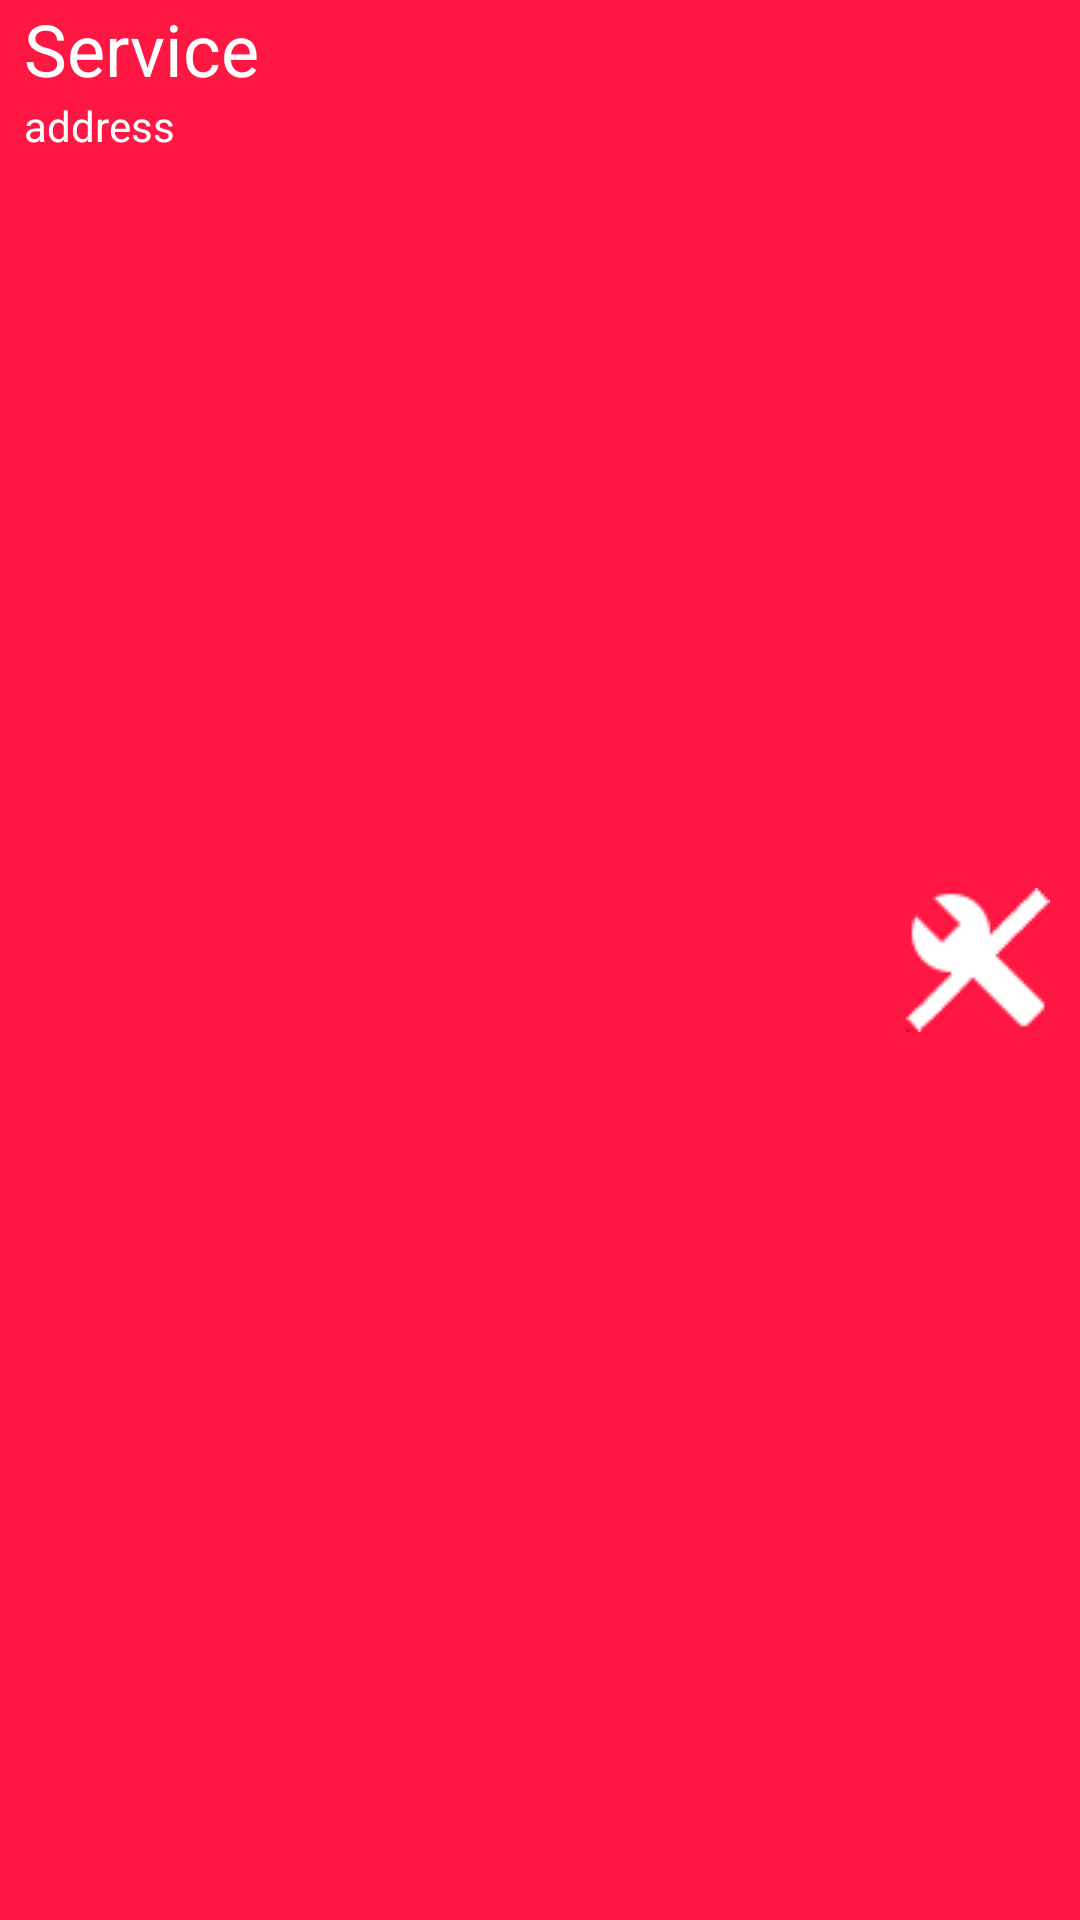

Where icons sit on this 1080×1920 app screen, as (x1, y1, x2, y2):
wrench: (906, 888, 1050, 1032)
